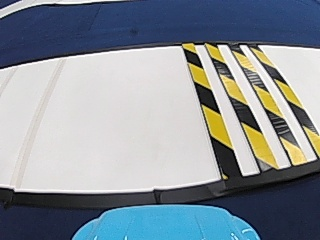bump: (182, 46, 318, 169)
